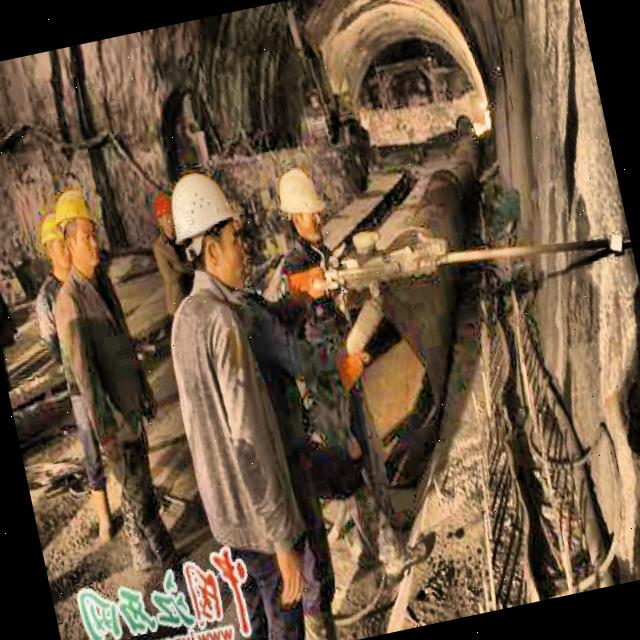helmet: (156, 157, 256, 297), (48, 182, 105, 278), (270, 160, 330, 248), (34, 209, 74, 273), (152, 187, 182, 239)
